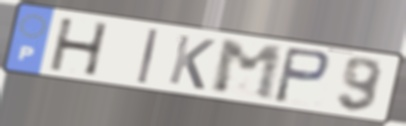9: (334, 55, 382, 115)
H: (47, 16, 111, 78)
I: (135, 27, 161, 86)
K: (165, 32, 218, 92)
M: (210, 38, 285, 103)
P: (271, 44, 332, 106)
